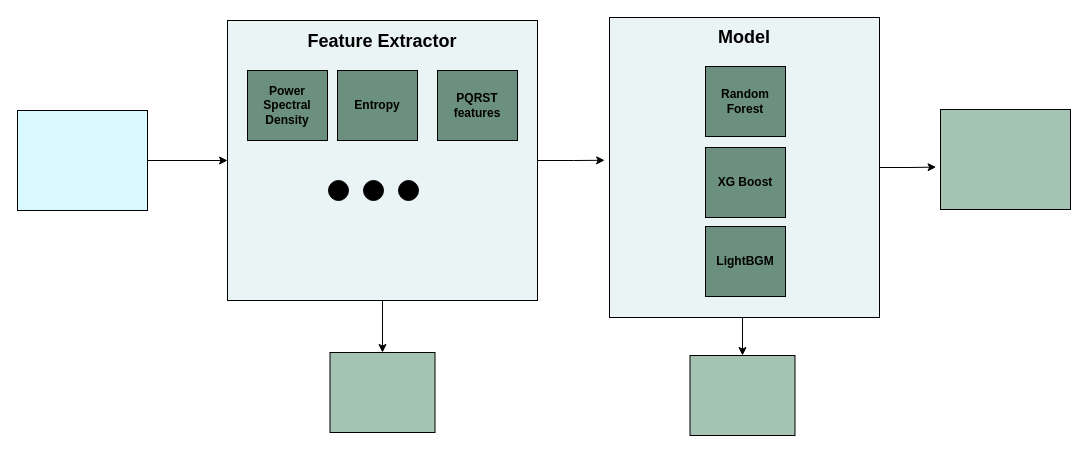
The diagram is 1088 pixels wide and 453 high, and some of its shapes have lost their labels. Here are the shapes that lost their labels. From the top down, the centre of each, then its label:
At (x=82, y=160): "Raw Signal Data".
At (x=1005, y=159): "Training Report".
At (x=382, y=392): "Features".
At (x=742, y=395): "Models".
